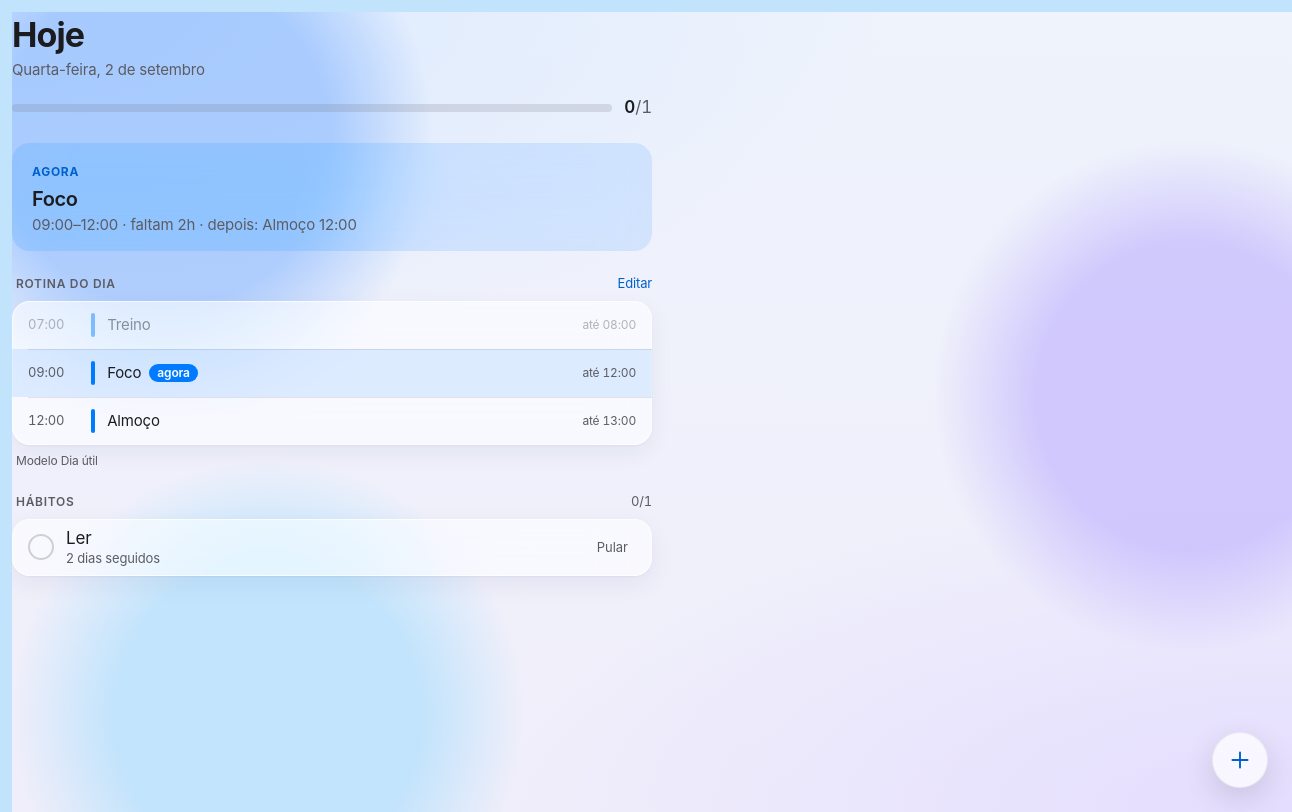
Test: Hoje › habitos › marcar muda a tela antes da resposta do servidor
Click the button with class "item__marca" at (41, 547), box [28,534,54,560]
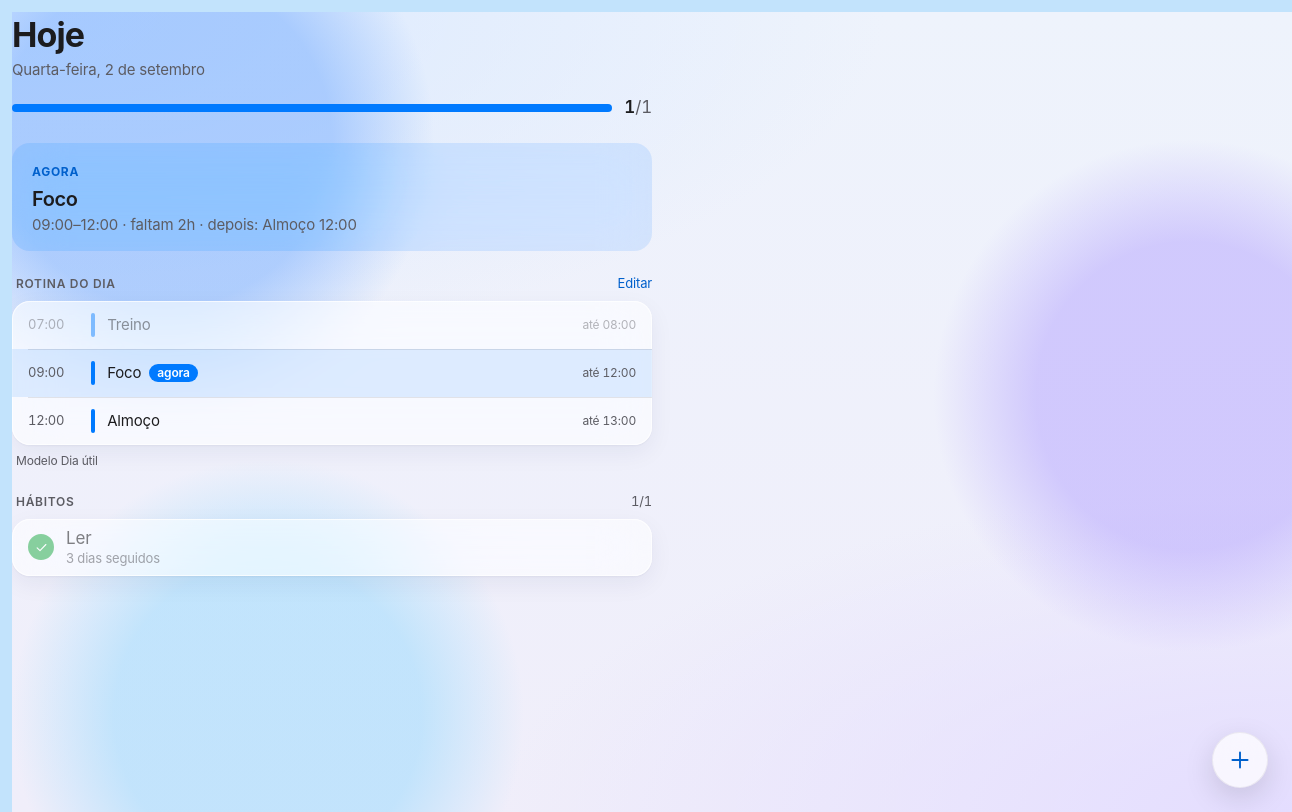
Check: the text "1/1" is shown, box [624,96,652,119]
Check: the text "3 dias seguidos" is shown, box [66,550,160,566]
